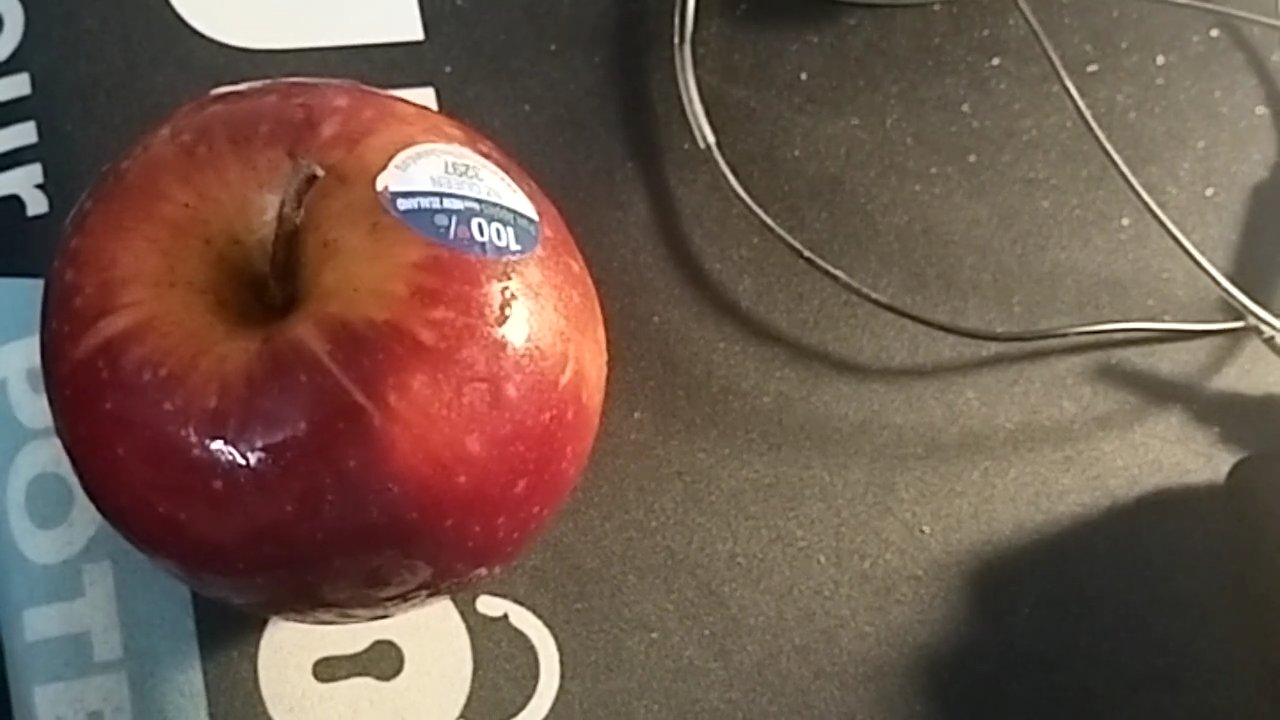apple_rotten: (35, 77, 615, 618)
